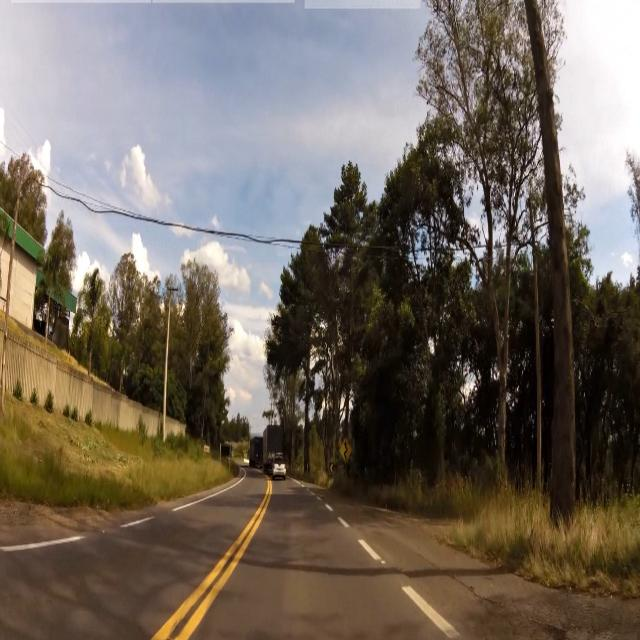A-3a: (339, 437, 352, 468)
